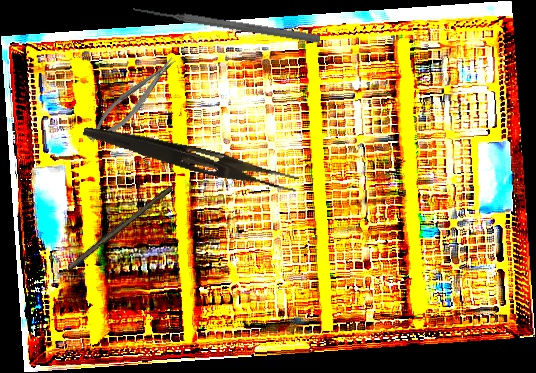Dressing Forceps: (80, 122, 301, 194)
Needle Holder: (81, 52, 185, 149)
Pusher: (132, 3, 321, 45)
Scalpel Handle: (65, 182, 174, 273)
